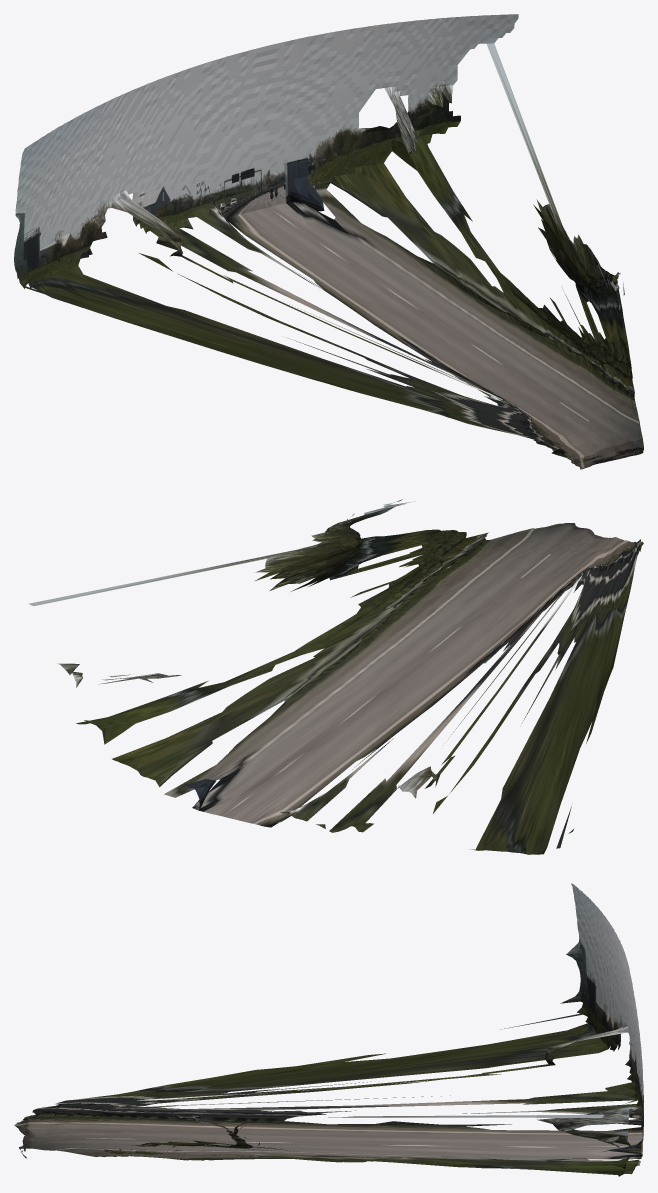
The picture shows the model from 3 angles, top to bottom: view 1: azimuth 30°, elevation 25°; view 2: azimuth 150°, elevation 25°; view 3: azimuth 270°, elevation 25°; orthographic projection. The views are drawn at different scales.
Visible parts, largest first — view 1: defaultobject; view 2: defaultobject; view 3: defaultobject.
Part boxes in pixels (x1,y1,x2,y2): defaultobject: (14, 14, 643, 469); defaultobject: (28, 499, 643, 854); defaultobject: (14, 883, 643, 1176).
Bounding box in the file's own units: 37.31 × 11.98 × 44.68.
1 material, 1 textured.
